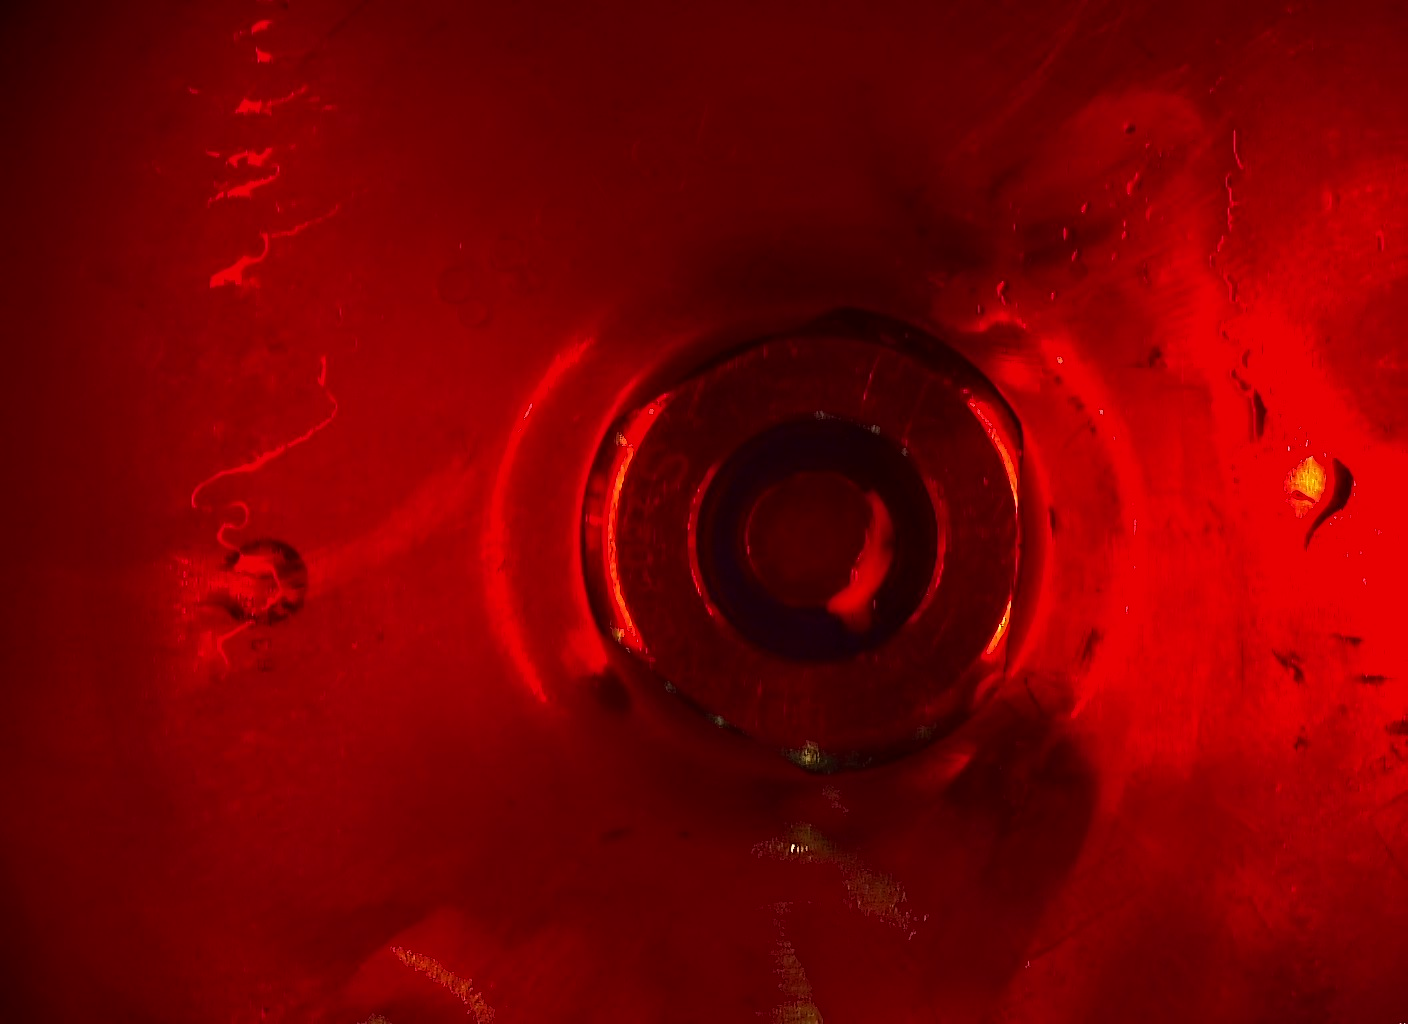pena: (817, 480, 916, 642)
